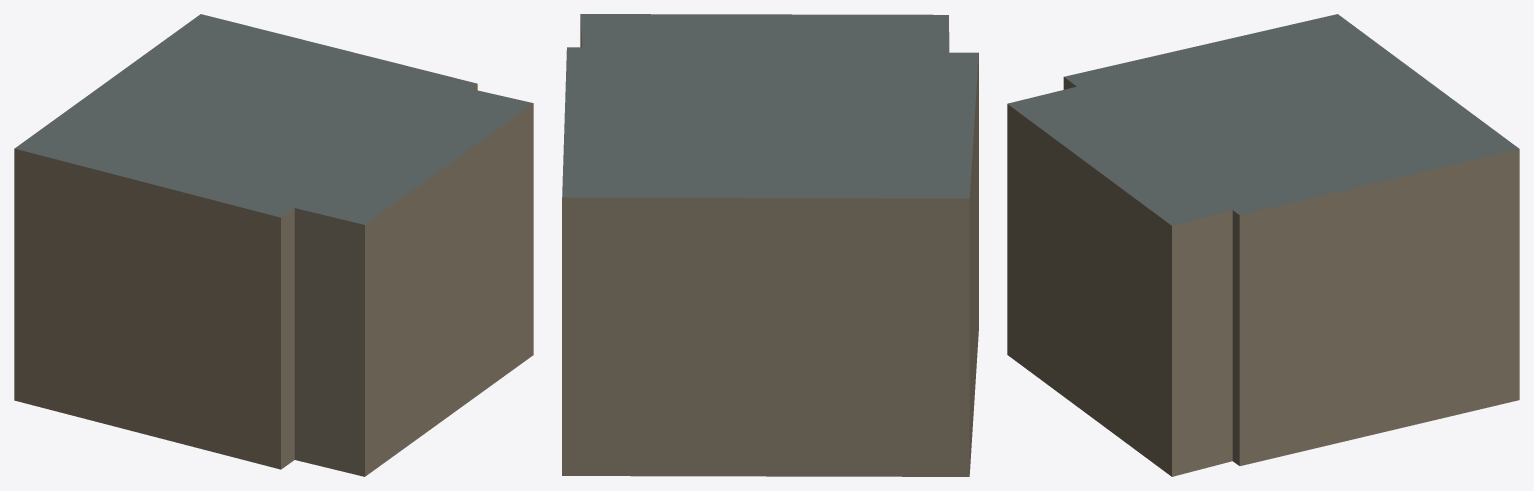
The model's file is nyc-1090172-0.glb.
3 views of the same model, side by side, from view 1: azimuth 30°, elevation 25°; view 2: azimuth 150°, elevation 25°; view 3: azimuth 270°, elevation 25° (orthographic). The views are drawn at different scales.
Parts seen in each view (by area): view 1: nyc-1090172-0; view 2: nyc-1090172-0; view 3: nyc-1090172-0.
Part boxes in pixels (box(x1,y1,x2,y2)): nyc-1090172-0: box(14, 14, 533, 476); nyc-1090172-0: box(562, 14, 978, 476); nyc-1090172-0: box(1007, 14, 1519, 476).
Size of the model in its own units: 4.96 by 2.74 by 5.07.
